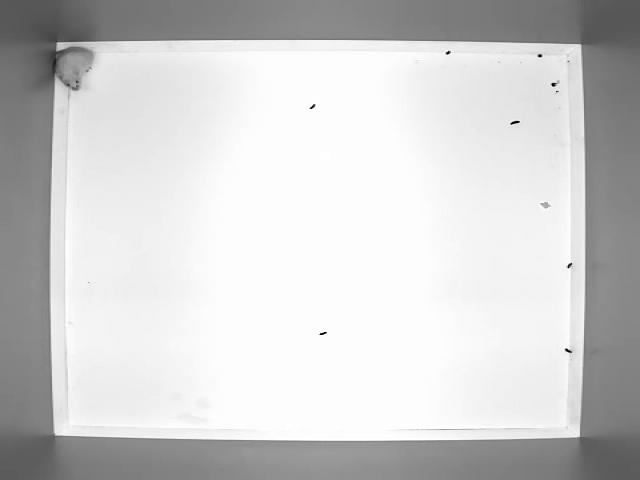Tikus: (50, 43, 99, 92)
